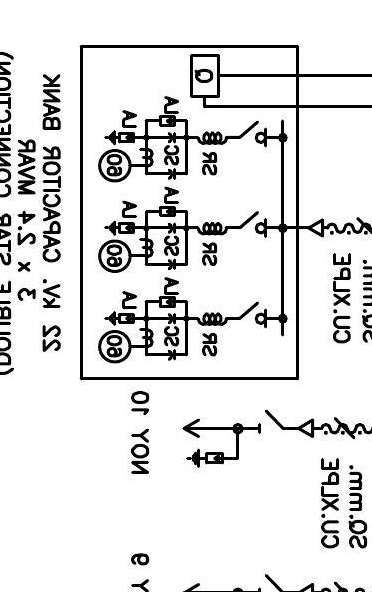22_cap_bank: (79, 44, 300, 381)
22_ds_la_out: (181, 408, 284, 468)
Q: (189, 53, 221, 99)
terminator_single: (307, 218, 325, 239), (297, 418, 315, 438)
